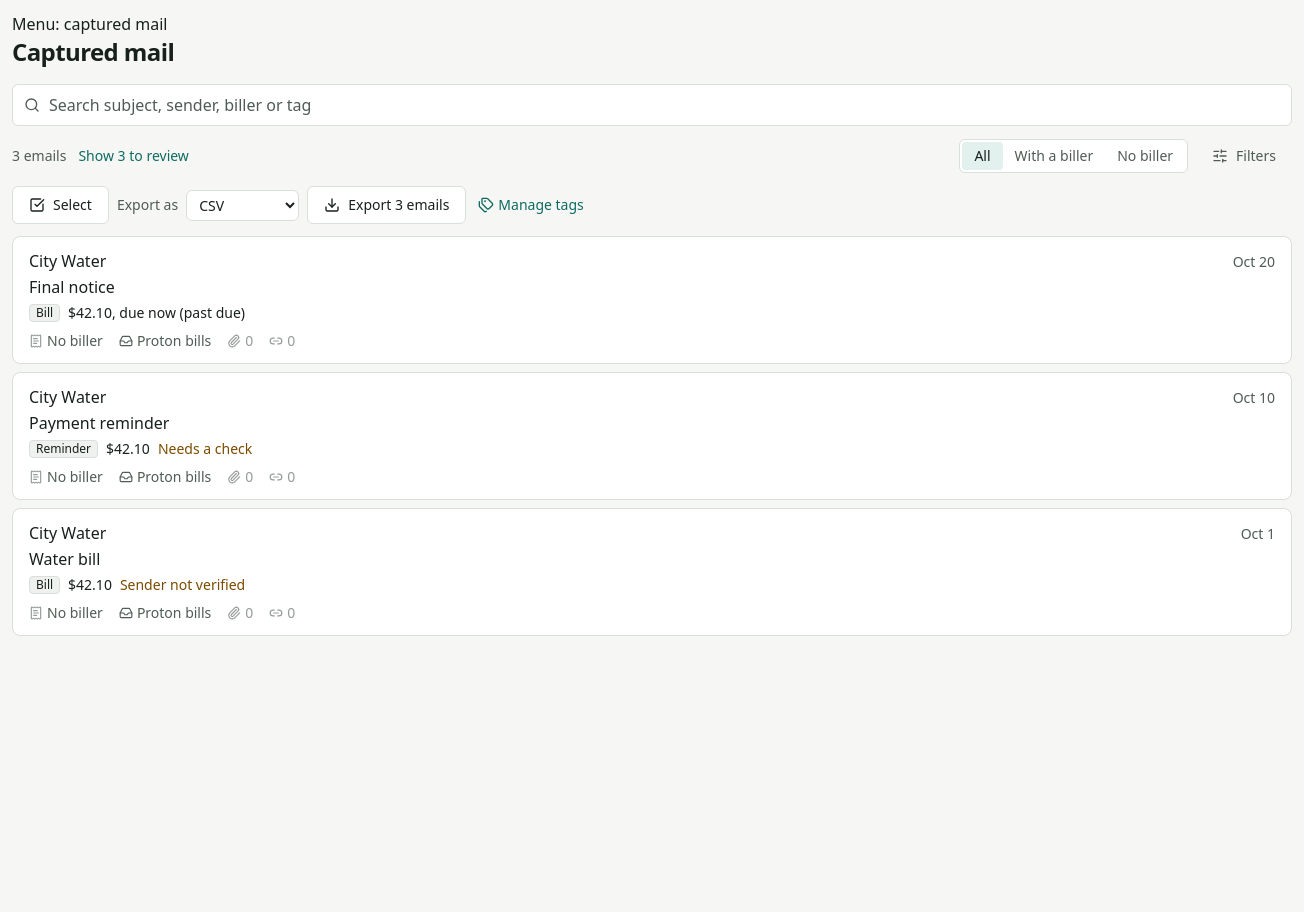
it: the captured-mail list's filters › narrows to an unverified sender and to a range of days, and warns when the days are backwards
The width and height of the screenshot is (1304, 912).
Expected: the text "Water bill" is shown, x1=29 y1=548 x2=100 y2=570
Click the button "Filters" at point(1244, 156), box x1=1196 y1=138 x2=1292 y2=174
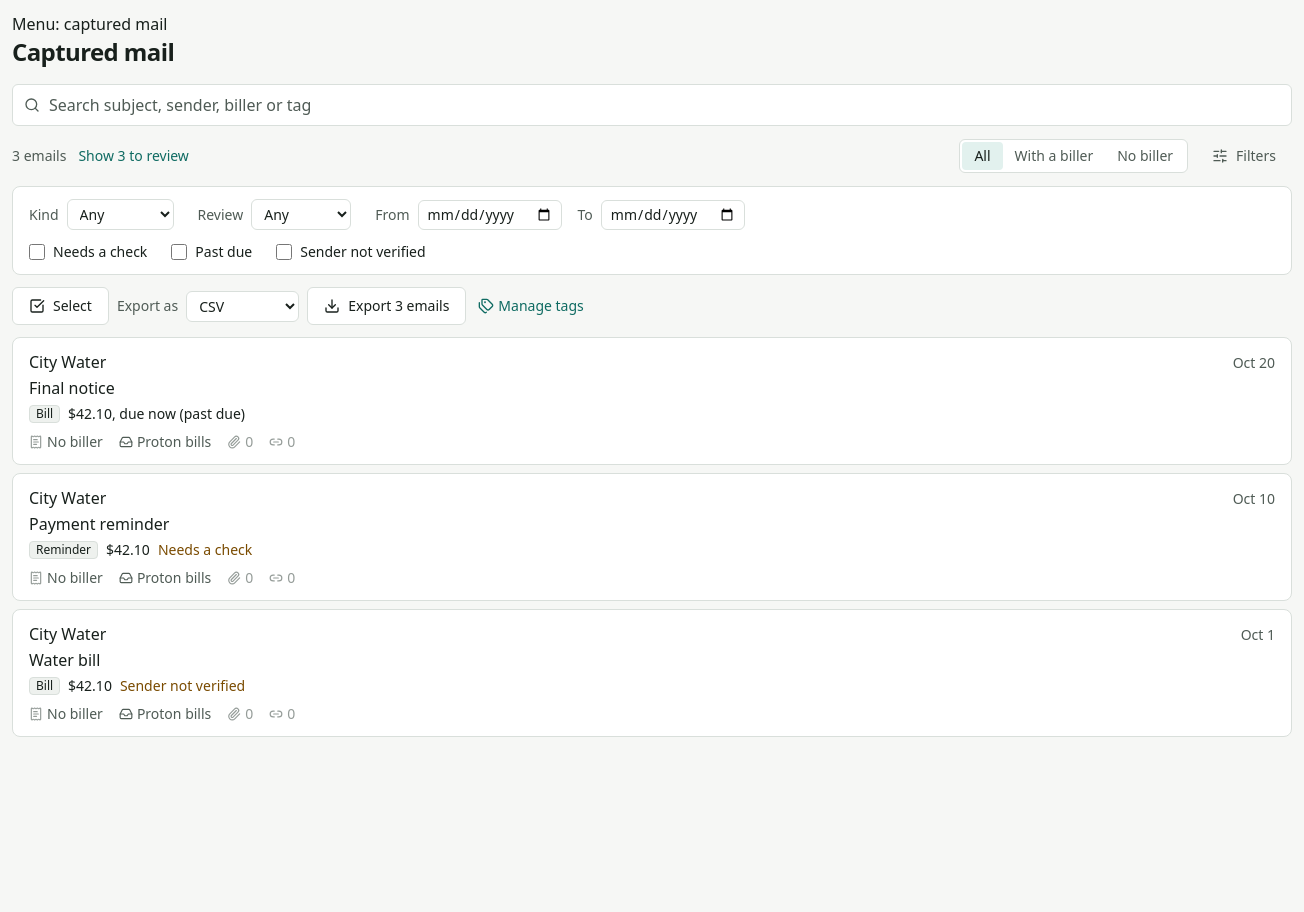
Click the checkbox labelled "Sender not verified" at point(284, 252), box x1=276 y1=244 x2=292 y2=260
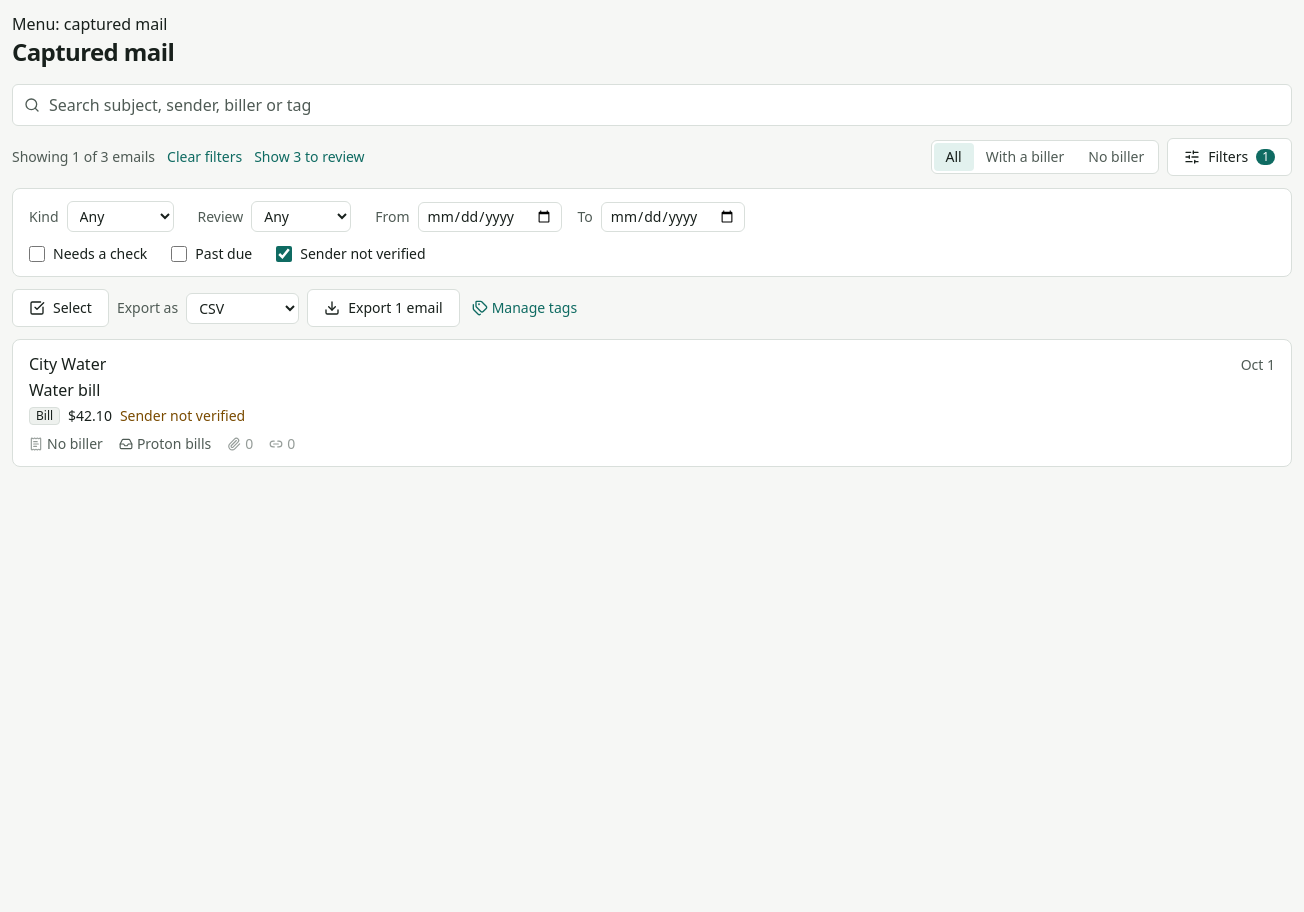
Click the checkbox labelled "Sender not verified" at point(284, 254), box x1=276 y1=246 x2=292 y2=262
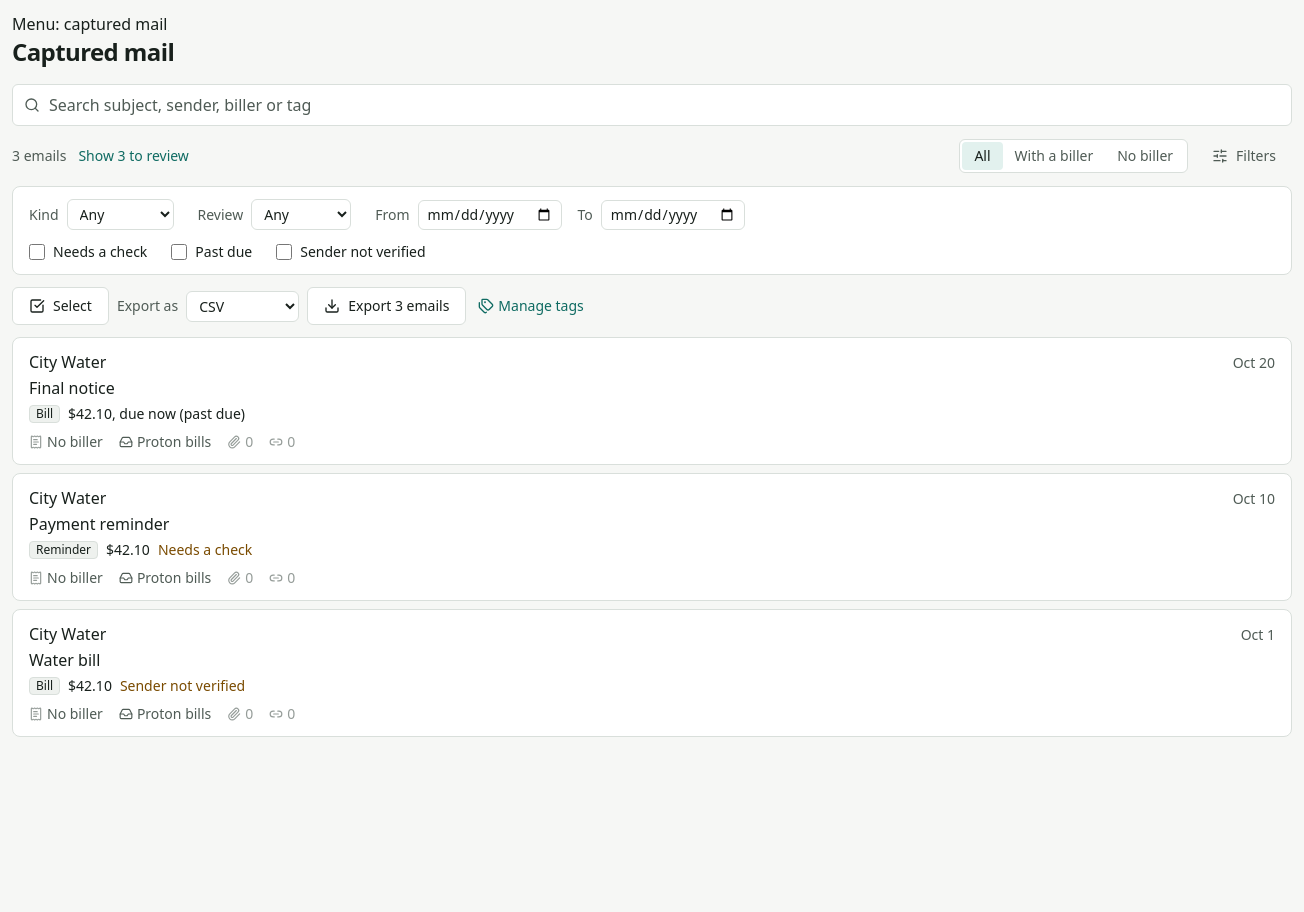
Type "2026-10-05" into the date field labelled "From" at point(490, 214), box x1=418 y1=200 x2=562 y2=230
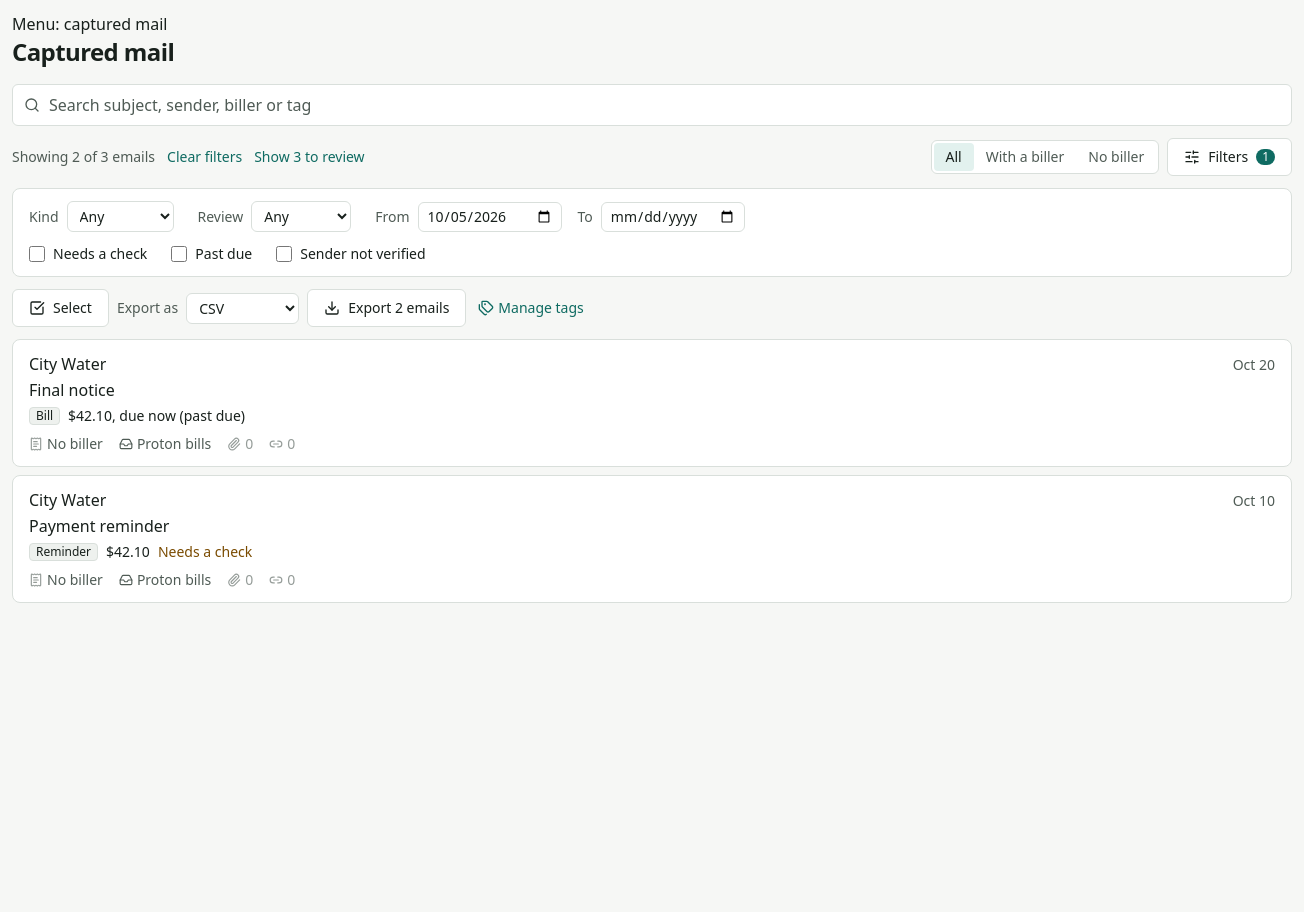
Type "2026-10-15" into the date field labelled "To" at point(673, 216), box x1=601 y1=202 x2=745 y2=232
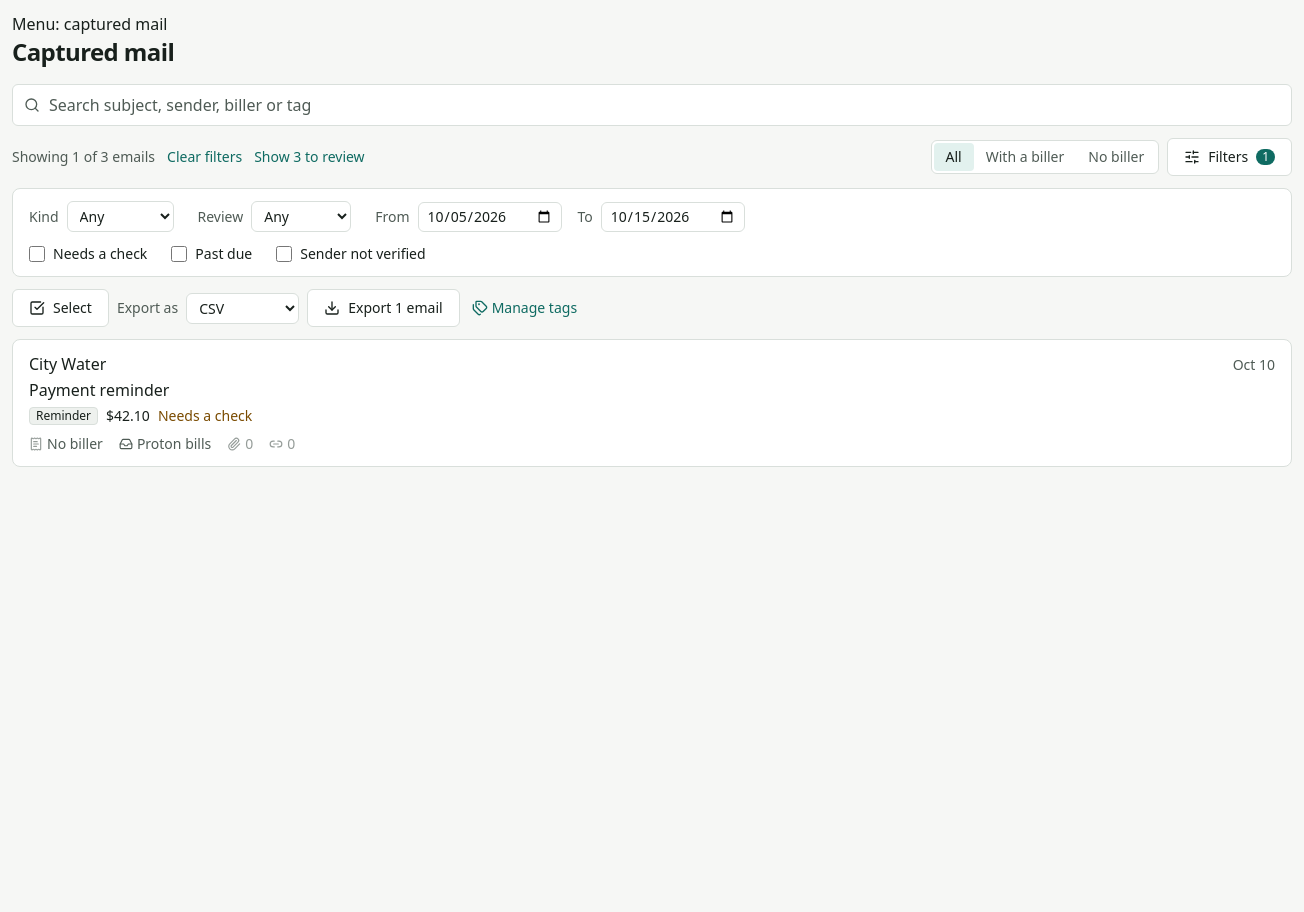
Expected: the text "after the To day" is not shown
Type "2026-10-25" into the date field labelled "From" at point(490, 216), box x1=418 y1=202 x2=562 y2=232
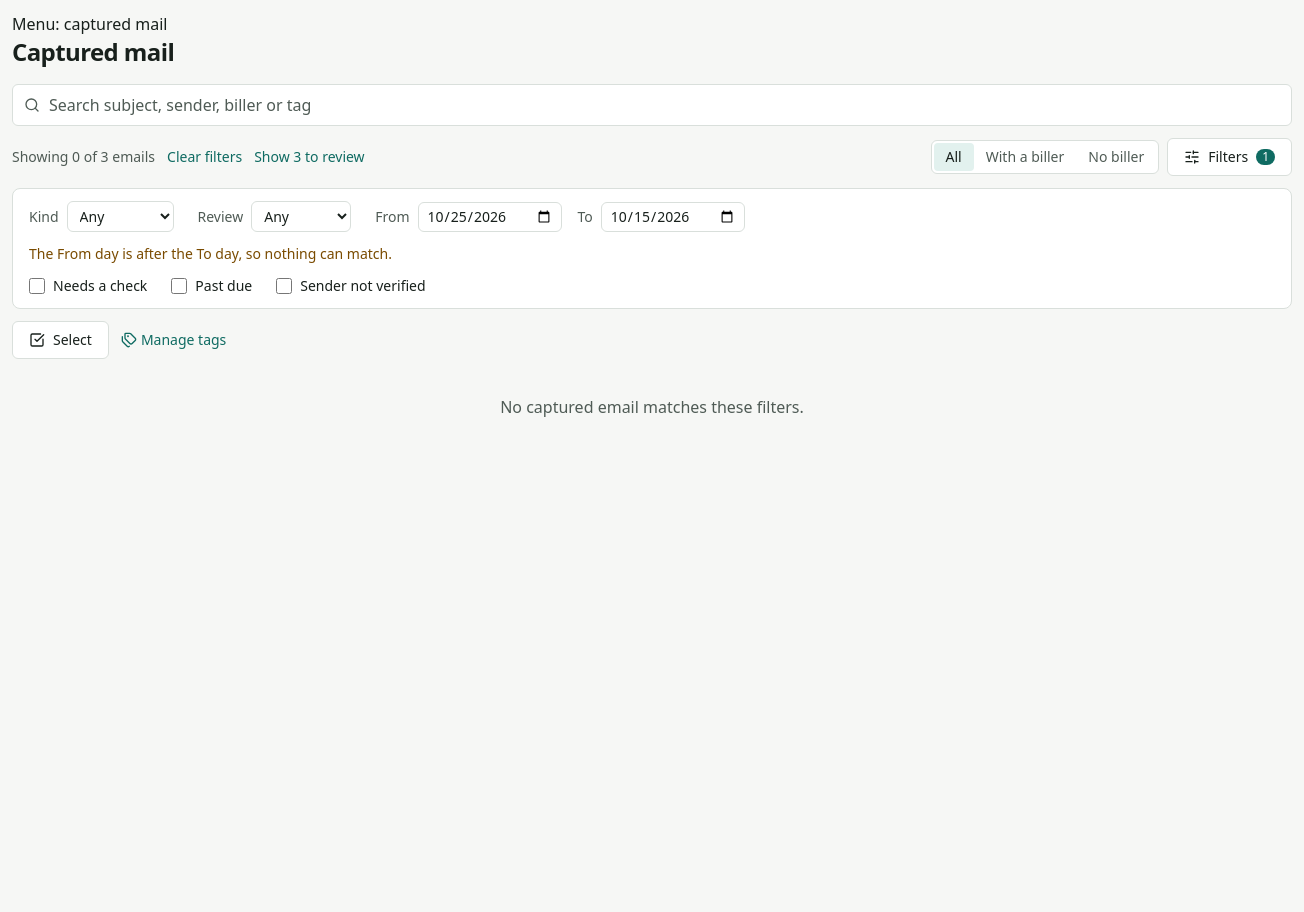
Expected: the text "The From day is after the To day, so nothing can match." is shown, x1=29 y1=244 x2=392 y2=263
